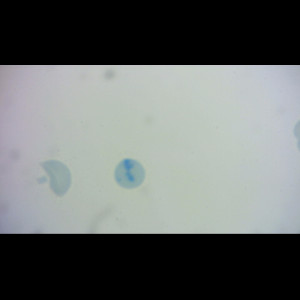aggregate reticulocyte: (113, 157, 146, 190)
erythrocyte: (40, 158, 74, 197)
